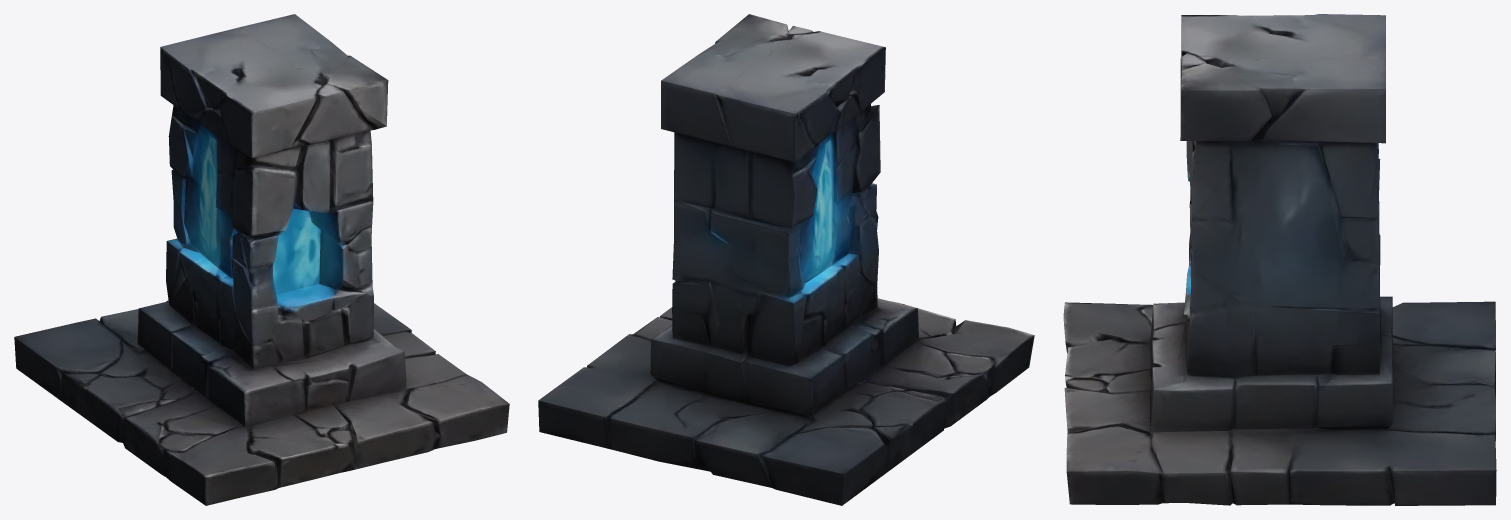
The model's file is m2CavePillarPlatform.glb.
3 renders of one model, left to right at view 1: azimuth 30°, elevation 25°; view 2: azimuth 150°, elevation 25°; view 3: azimuth 270°, elevation 25°, orthographic. The views are drawn at different scales.
Visible parts, largest first — view 1: model; view 2: model; view 3: model.
Boxes of the visible parts, x1=… form: model: x1=14, y1=14, x2=509, y2=505; model: x1=538, y1=14, x2=1034, y2=505; model: x1=1063, y1=14, x2=1496, y2=505.
Size of the model in its own units: 1.75 by 1.83 by 1.91.
Materials: 1 (1 with a texture image).
